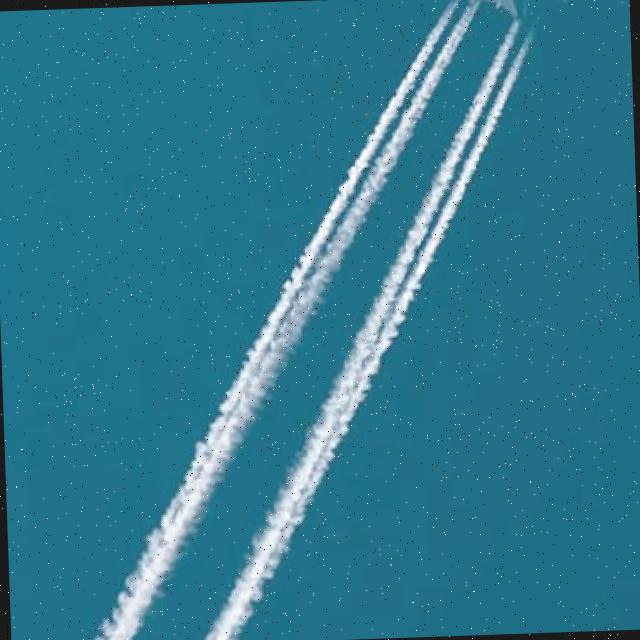Ct: (71, 1, 640, 640)
